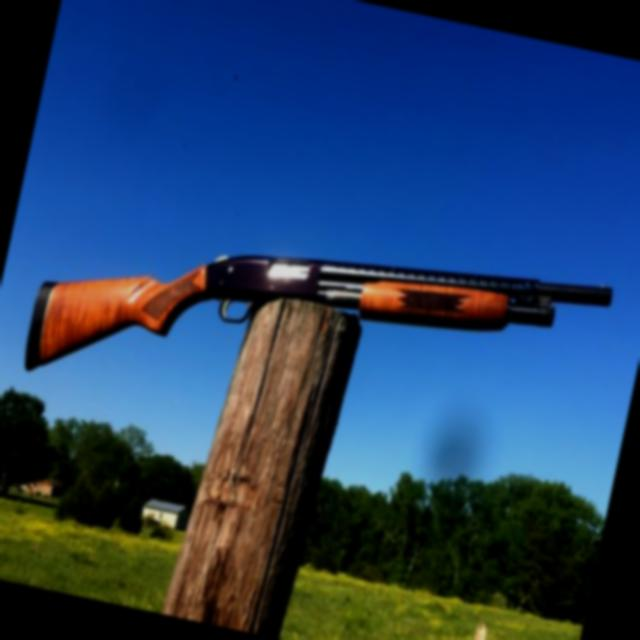shotgun: (15, 154, 628, 496)
